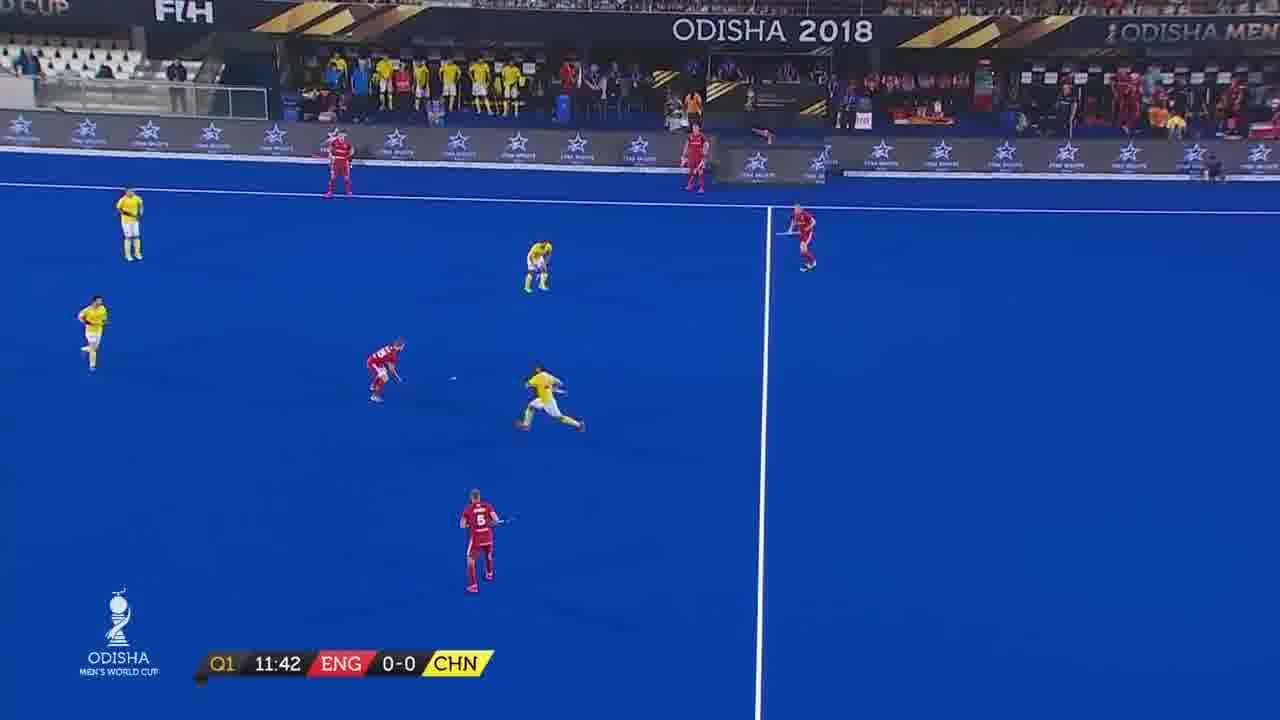ball: (448, 374, 459, 382)
